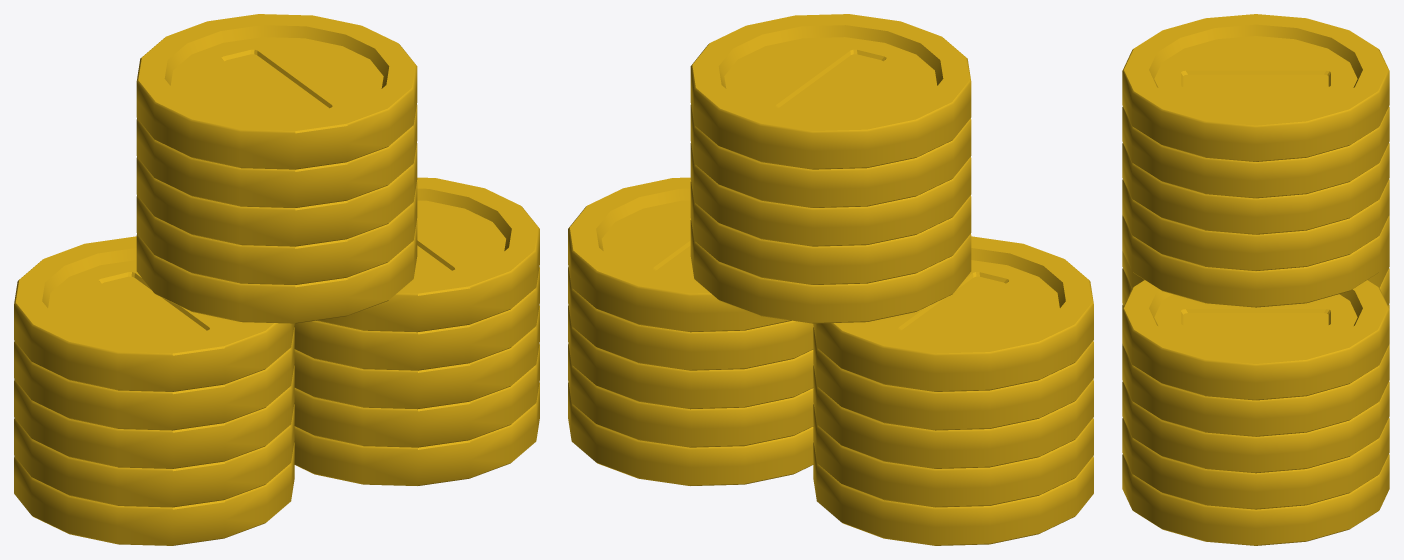
The model's file is coin_tower.gltf.
3 renders of one model, left to right at view 1: azimuth 30°, elevation 25°; view 2: azimuth 150°, elevation 25°; view 3: azimuth 270°, elevation 25°, orthographic. The views are drawn at different scales.
Visible parts, largest first — view 1: coin.004, coin.009, coin.014, coin.002, coin, coin.001, coin.003, coin.006, coin.008, coin.007, coin.005, coin.011 (+3 smaller); view 2: coin.004, coin.009, coin.014, coin.002, coin, coin.001, coin.003, coin.006, coin.007, coin.008, coin.005, coin.011 (+3 smaller); view 3: coin.004, coin.014, coin.010, coin.002, coin, coin.012, coin.013, coin.003, coin.011, coin.001, coin.008, coin.007.
Part boxes in pixels (x1,y1,x2,y2): coin.004: (136, 14, 417, 169); coin.009: (14, 236, 294, 391); coin.014: (316, 177, 539, 332); coin.002: (136, 143, 417, 246); coin: (136, 220, 417, 323); coin.001: (136, 182, 417, 284); coin.003: (136, 105, 417, 207); coin.006: (14, 404, 294, 507); coin.008: (14, 327, 294, 430); coin.007: (14, 365, 294, 468); coin.005: (14, 442, 294, 545); coin.011: (294, 344, 539, 447); coin.004: (690, 14, 971, 169); coin.009: (813, 236, 1093, 391); coin.014: (568, 177, 791, 332); coin.002: (690, 143, 971, 246); coin: (690, 220, 971, 323); coin.001: (690, 182, 971, 284); coin.003: (690, 105, 971, 207); coin.006: (813, 404, 1093, 507); coin.007: (813, 365, 1093, 468); coin.008: (813, 327, 1093, 430); coin.005: (813, 442, 1093, 545); coin.011: (568, 344, 813, 447); coin.004: (1122, 14, 1389, 161); coin.014: (1122, 280, 1389, 400); coin.010: (1122, 454, 1389, 545); coin.002: (1122, 143, 1389, 234); coin: (1122, 215, 1389, 307); coin.012: (1122, 381, 1389, 473); coin.013: (1122, 345, 1389, 436); coin.003: (1122, 106, 1389, 198); coin.011: (1122, 418, 1389, 509); coin.001: (1122, 179, 1389, 270); coin.008: (1122, 251, 1389, 287); coin.007: (1122, 268, 1389, 305).
Size of the model in its own units: 0.16 by 0.12 by 0.08.
